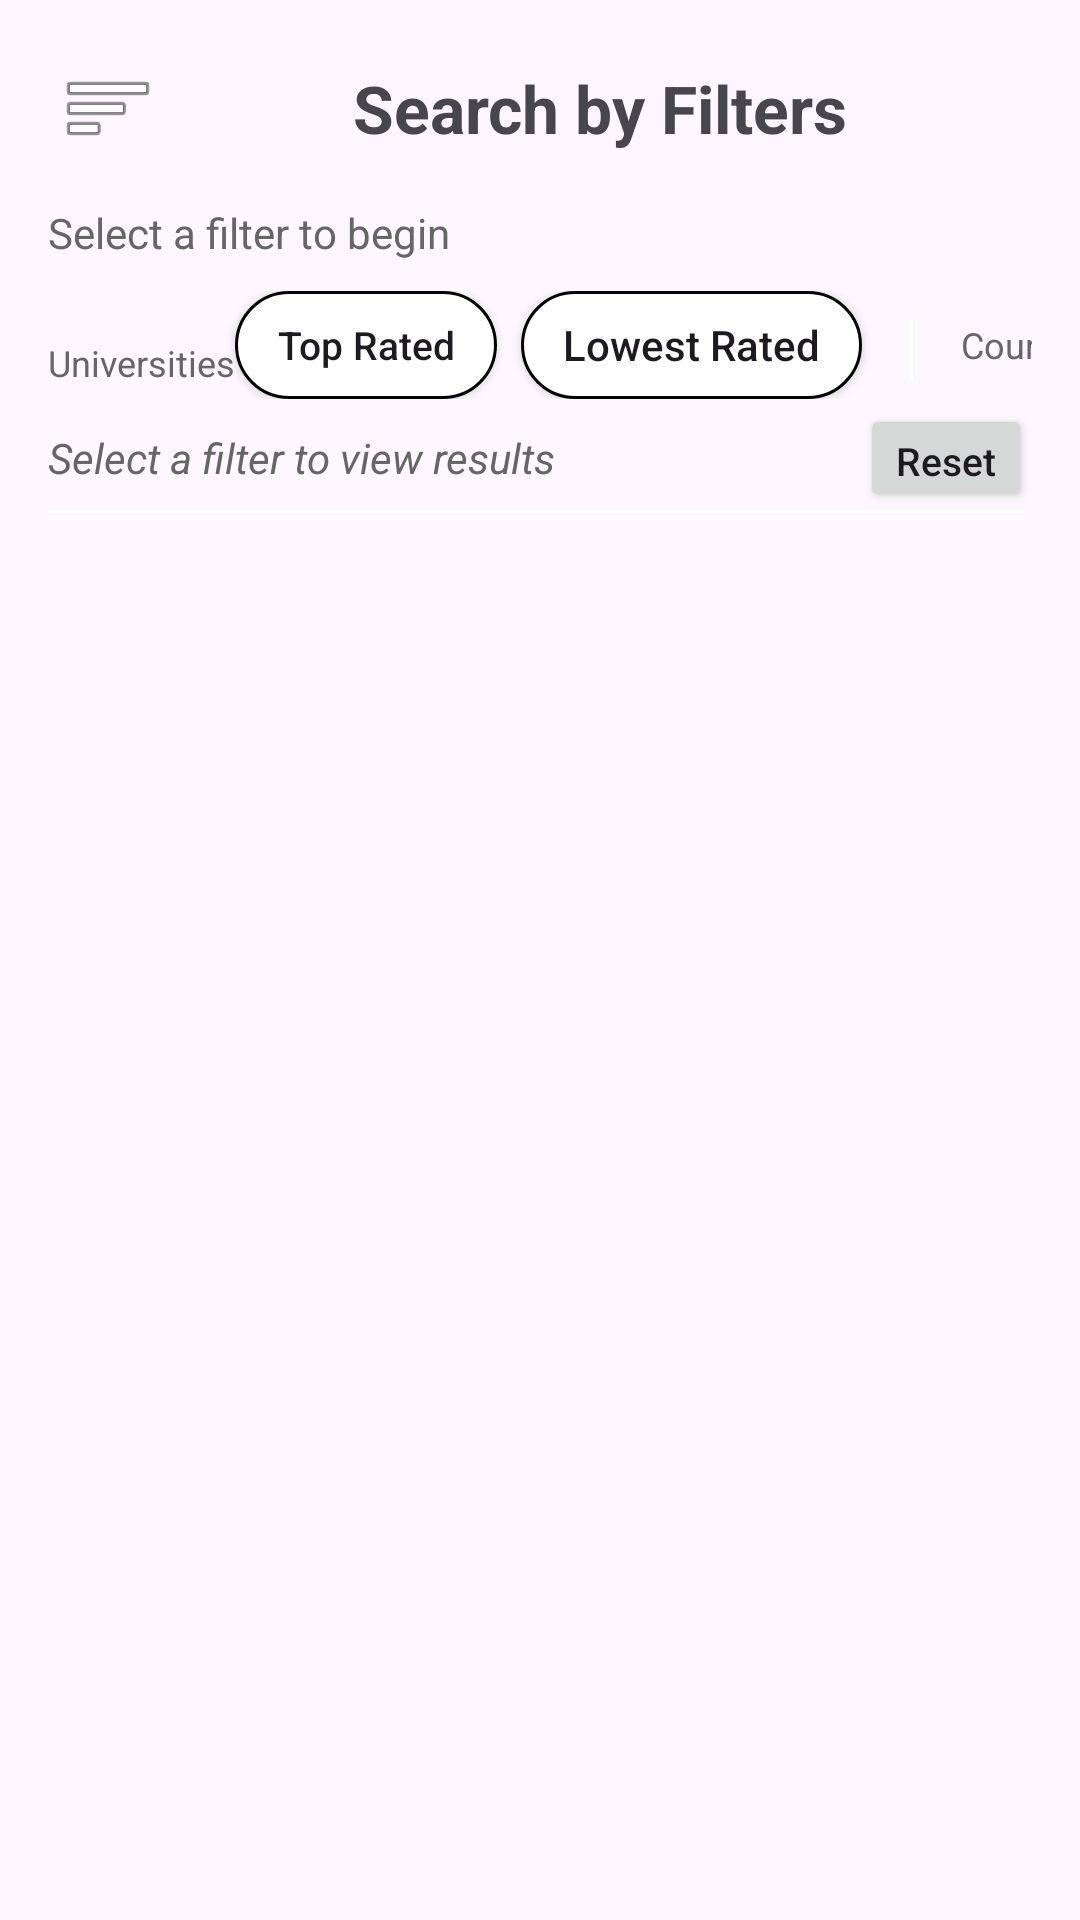

Locate icon controls on the screen. Image size 1080w x 1920h, boxes as (x1, y1, x2, y2).
Open menu: (67, 82, 149, 135)
